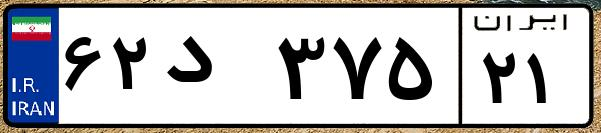1: (525, 38, 570, 115)
2: (475, 38, 525, 113), (110, 28, 158, 98)
3: (270, 28, 330, 110)
5: (385, 28, 445, 110)
6: (57, 26, 110, 100)
7: (330, 28, 385, 110)
د: (158, 20, 270, 120)
